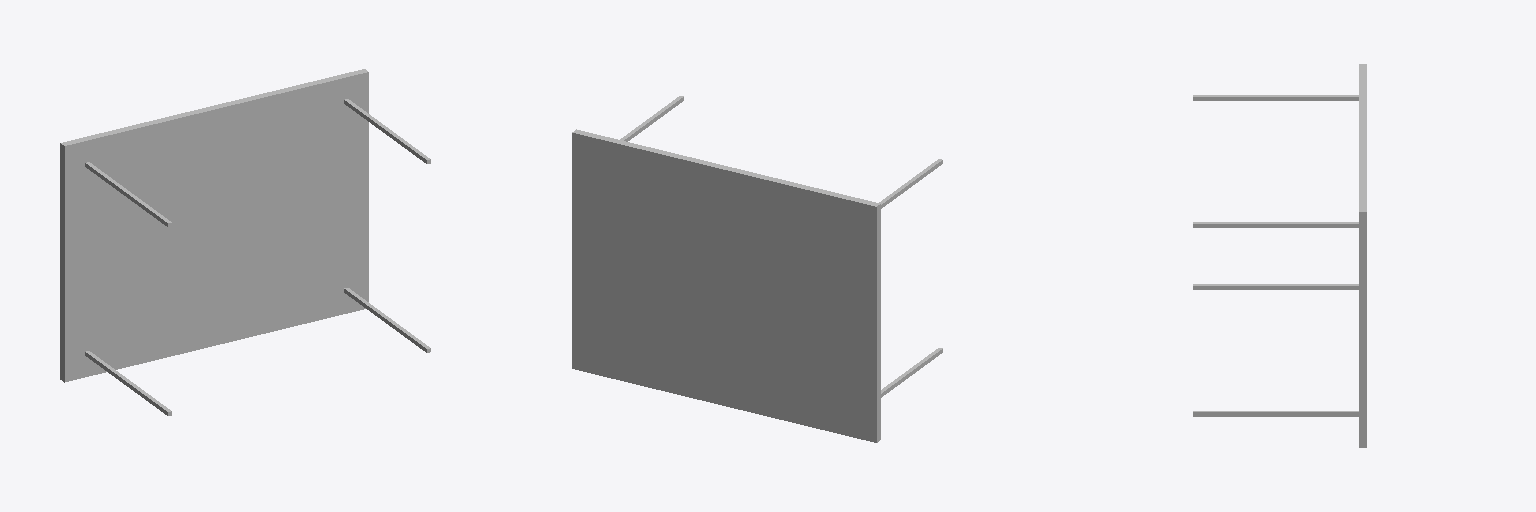
Rendered from random_table84.obj.
3 renders of one model, left to right at view 1: azimuth 30°, elevation 25°; view 2: azimuth 150°, elevation 25°; view 3: azimuth 270°, elevation 25°, orthographic.
Visible parts, largest first — view 1: Table_Cube.1485, TableLeg3_Cube.1489, TableLeg0_Cube.1486, TableLeg1_Cube.1487, TableLeg2_Cube.1488; view 2: Table_Cube.1485; view 3: Table_Cube.1485, TableLeg0_Cube.1486, TableLeg1_Cube.1487, TableLeg2_Cube.1488, TableLeg3_Cube.1489.
Boxes of the visible parts, box(x1,y1,x2,y2) form: Table_Cube.1485: box(60, 69, 368, 382); TableLeg3_Cube.1489: box(85, 351, 171, 415); TableLeg0_Cube.1486: box(344, 99, 430, 163); TableLeg1_Cube.1487: box(85, 162, 171, 227); TableLeg2_Cube.1488: box(344, 288, 430, 352); Table_Cube.1485: box(572, 129, 880, 442); Table_Cube.1485: box(1359, 64, 1366, 447); TableLeg0_Cube.1486: box(1193, 222, 1358, 227); TableLeg1_Cube.1487: box(1193, 95, 1358, 100); TableLeg2_Cube.1488: box(1193, 411, 1358, 416); TableLeg3_Cube.1489: box(1193, 284, 1358, 289).
Bounding box in the file's own units: 9.56 × 7.1 × 4.74.